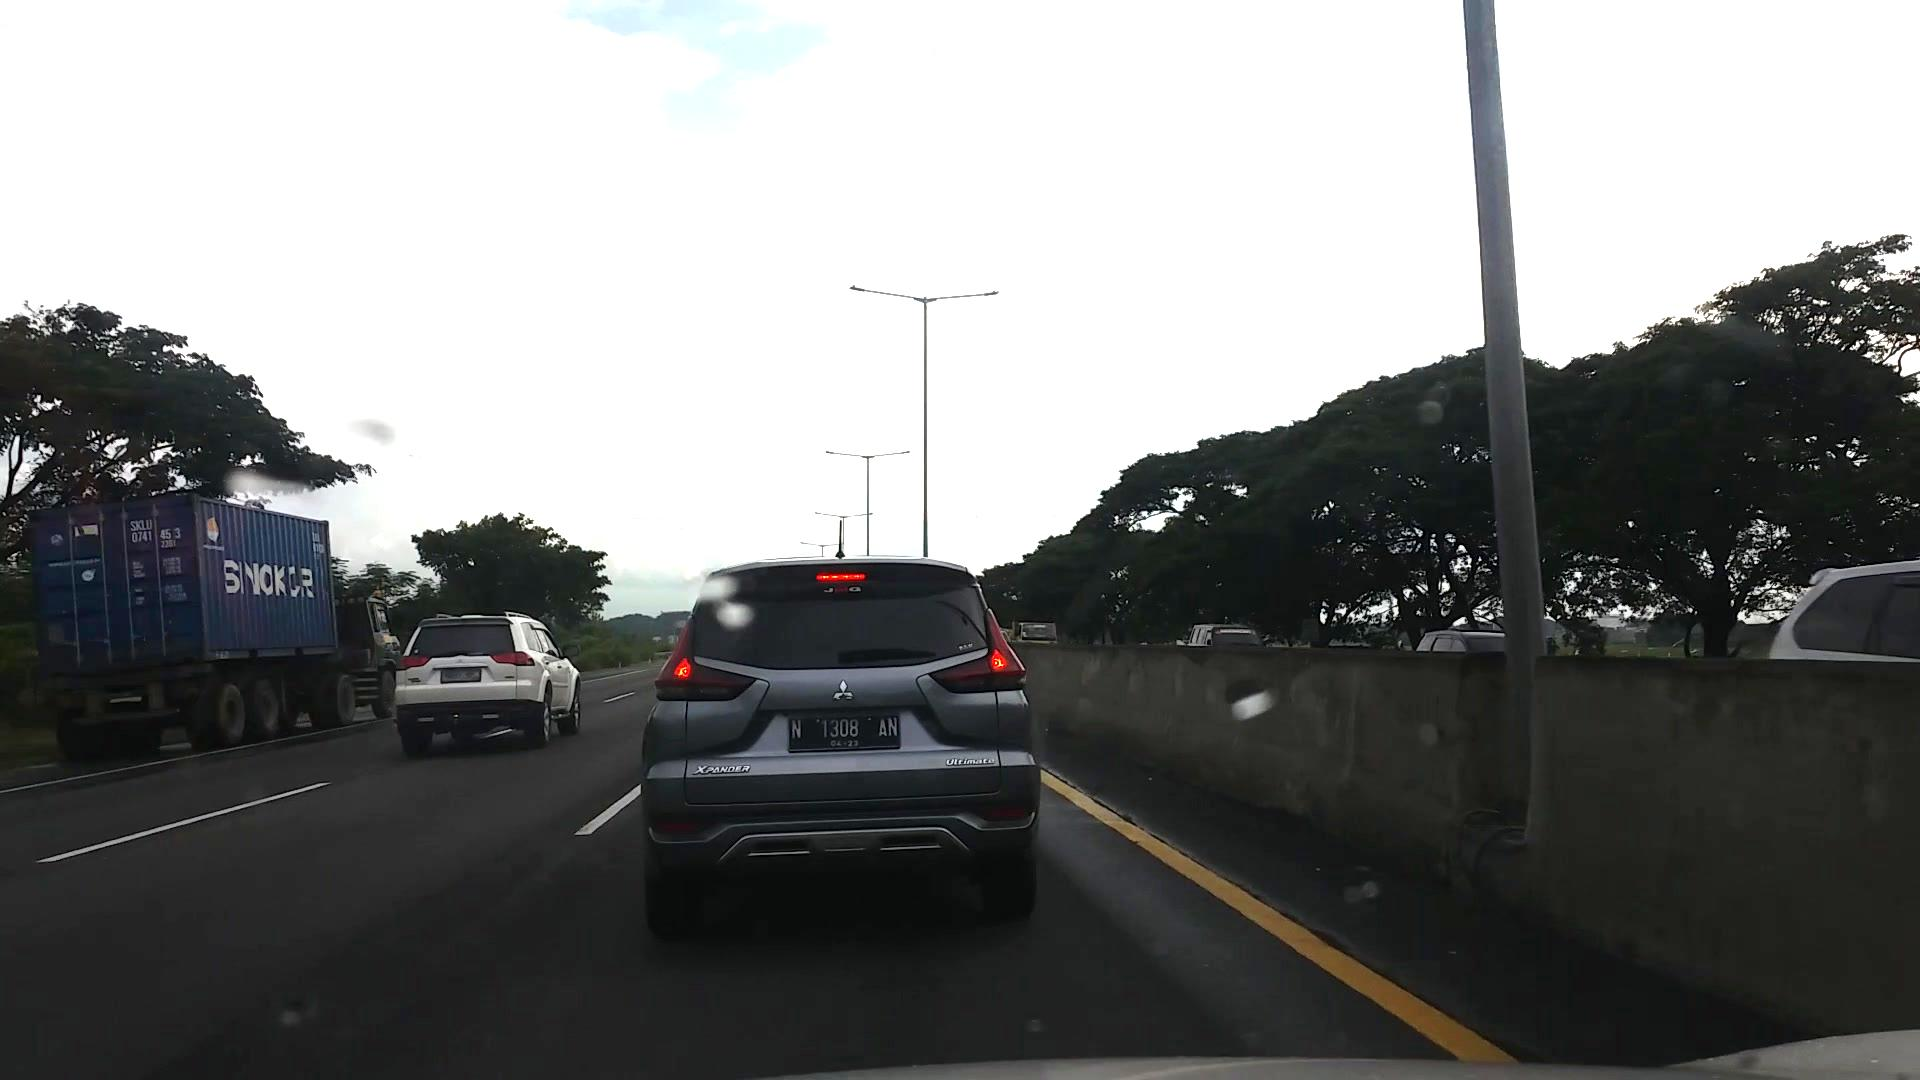plate_positive: (789, 715, 901, 752)
